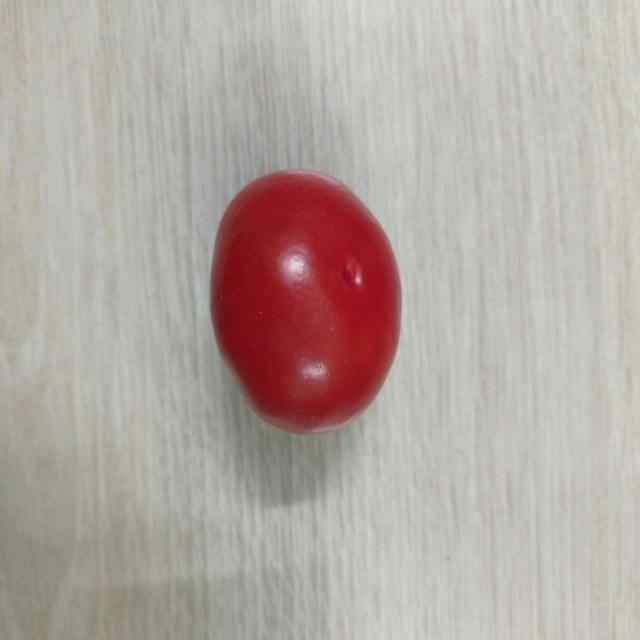Tomato: (207, 168, 405, 436)
